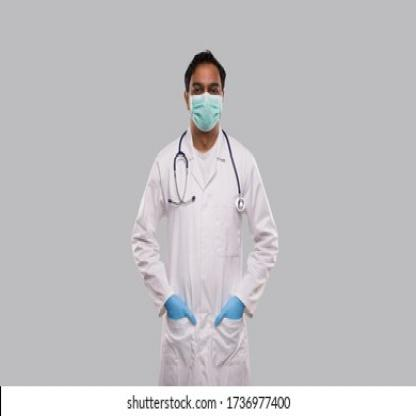glove: (214, 294, 245, 327), (164, 294, 198, 324)
